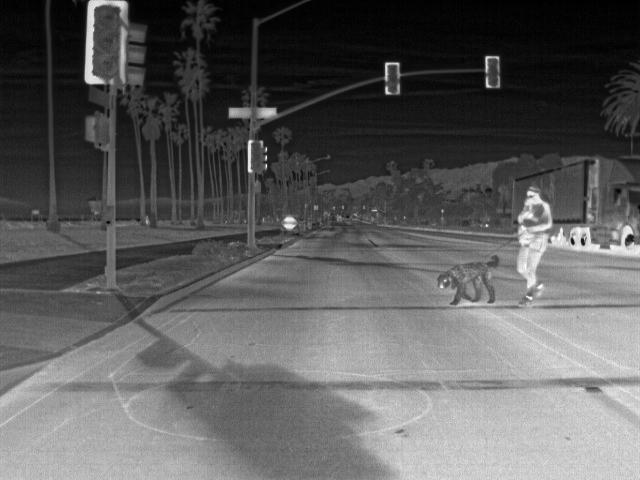dog: (435, 260, 497, 306)
person: (514, 184, 552, 309)
